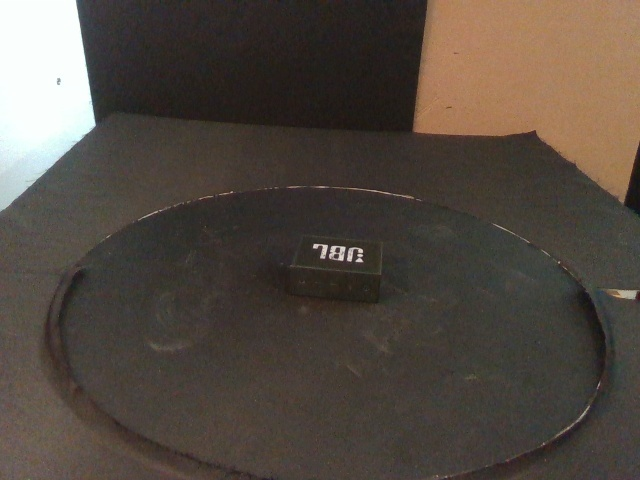speaker: (288, 233, 384, 306)
